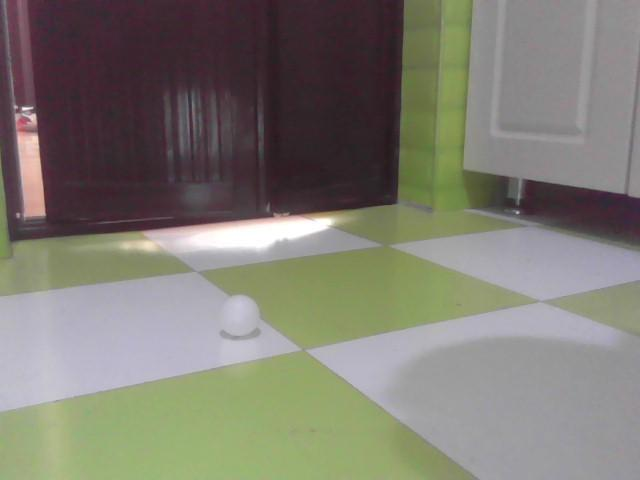ball: (222, 295, 260, 336)
